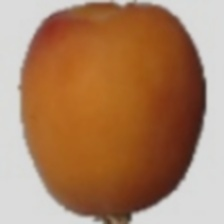apricot: (18, 41, 199, 211)
